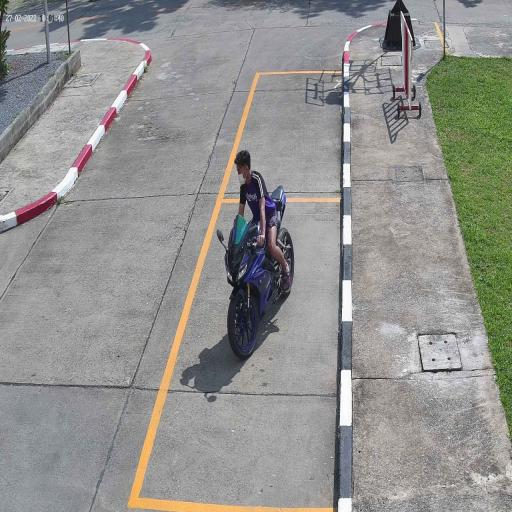motorcycle: (224, 221, 295, 362)
